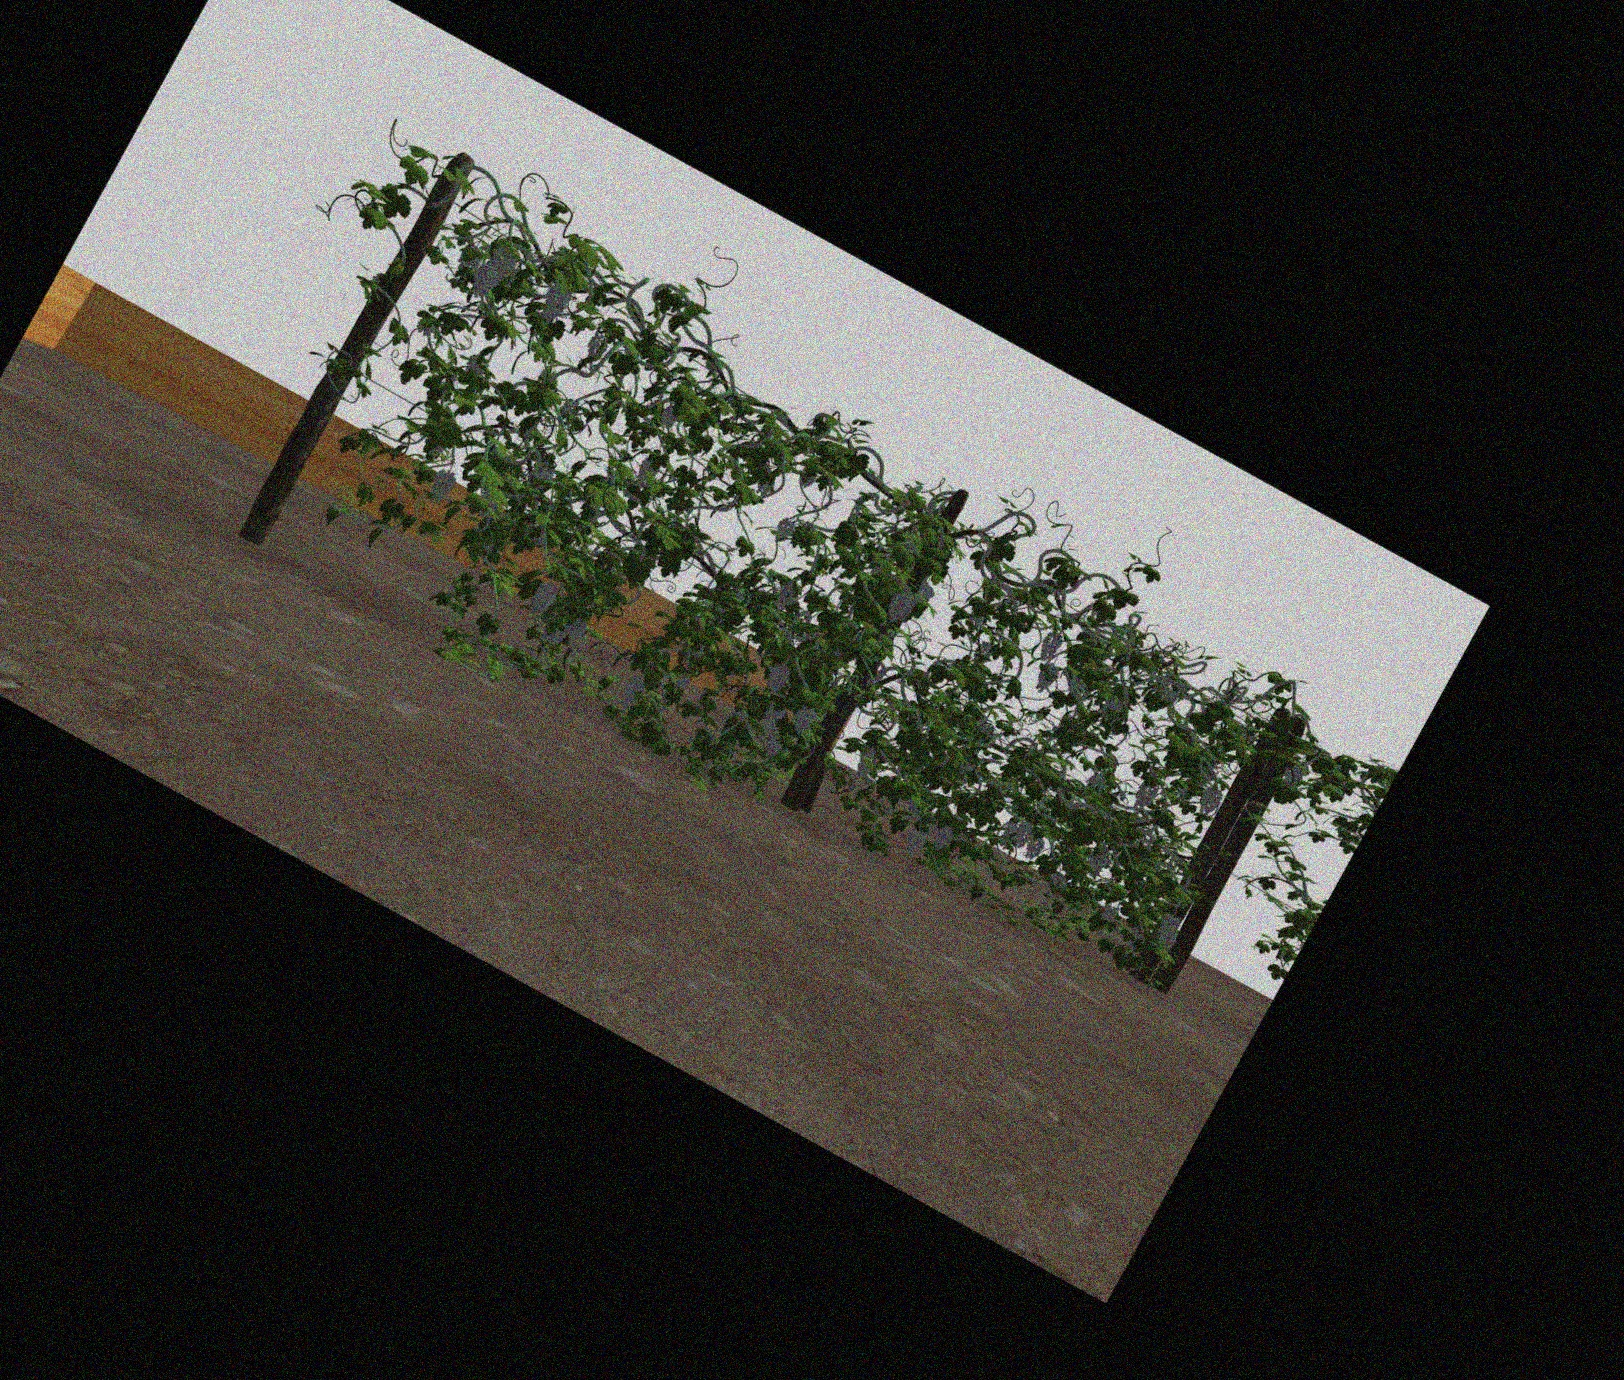grape: (544, 285, 567, 320), (430, 468, 452, 502), (889, 589, 911, 622), (490, 248, 513, 277), (534, 580, 555, 612), (857, 745, 876, 778), (530, 461, 552, 487), (767, 664, 787, 691), (793, 706, 813, 734), (1041, 631, 1060, 660), (622, 676, 639, 706), (763, 702, 781, 732), (635, 459, 656, 485), (902, 830, 923, 856), (475, 266, 494, 293), (1200, 786, 1219, 813), (1037, 663, 1054, 691), (776, 580, 796, 606), (932, 826, 952, 852), (1135, 782, 1154, 808), (1089, 850, 1108, 875), (1283, 763, 1304, 784), (587, 334, 607, 357), (1015, 821, 1031, 846), (1158, 913, 1178, 934), (1026, 835, 1042, 858), (466, 355, 486, 372), (775, 517, 793, 538), (660, 405, 676, 427), (550, 622, 566, 645), (570, 617, 586, 638), (561, 397, 578, 418), (763, 738, 781, 756), (1048, 872, 1065, 889), (1100, 905, 1117, 921), (917, 583, 934, 600), (675, 674, 689, 691), (1158, 934, 1173, 947)
